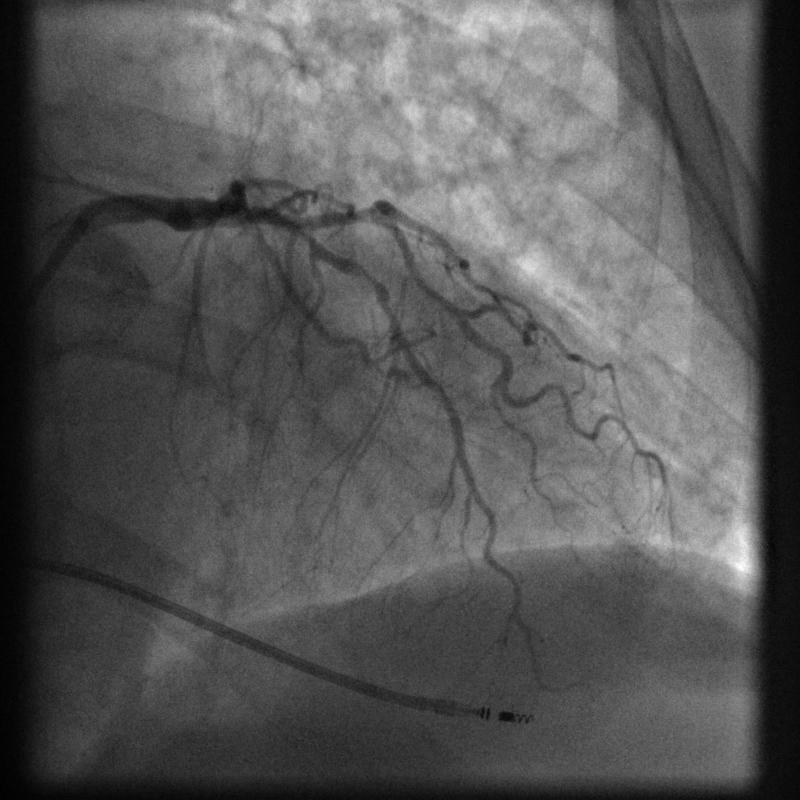Stenosis: (352, 262, 391, 311)
